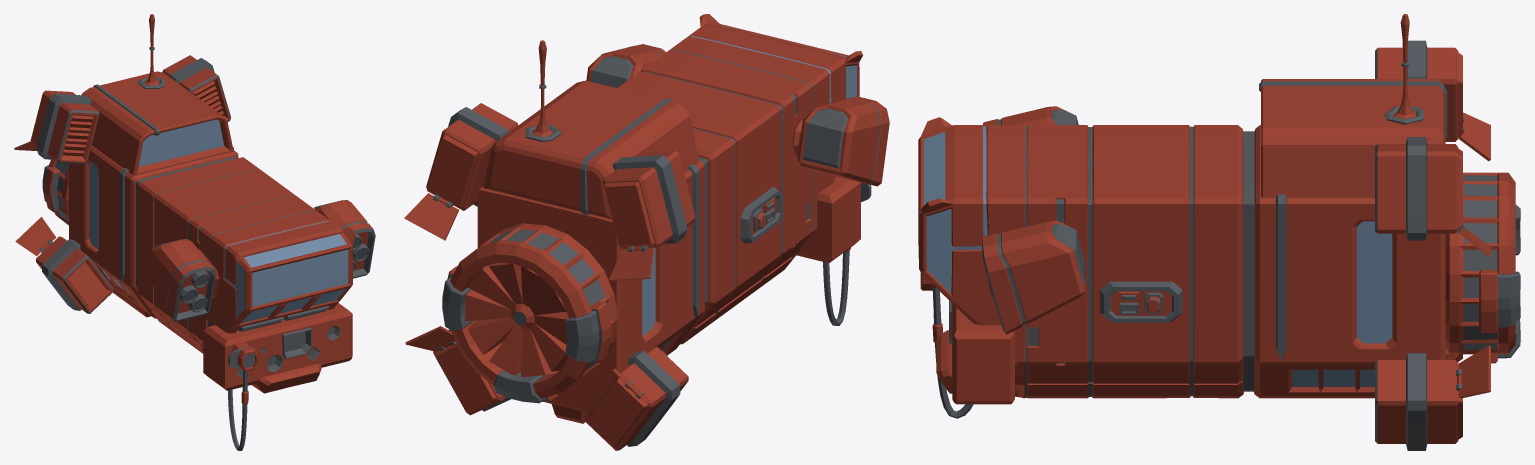
File: Dropship_02_Red.fbx
3 renders of one model, left to right at view 1: azimuth 30°, elevation 25°; view 2: azimuth 150°, elevation 25°; view 3: azimuth 270°, elevation 25°, orthographic. The views are drawn at different scales.
Visible parts, largest first — view 1: Dropship_02_Red; view 2: Dropship_02_Red; view 3: Dropship_02_Red.
Boxes of the visible parts, x1,y1,x2,y2 form: Dropship_02_Red: [14, 14, 375, 450]; Dropship_02_Red: [404, 14, 889, 450]; Dropship_02_Red: [918, 14, 1520, 450].
Size of the model in its own units: 798 by 1194 by 1443.
Materials: 3 (3 with a texture image).
